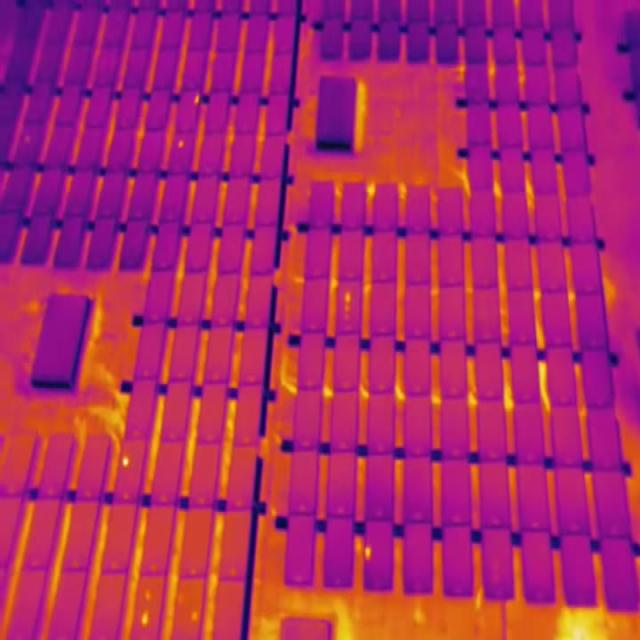Orange-Spots: (344, 292, 351, 319), (141, 610, 149, 626), (364, 546, 372, 559), (123, 456, 130, 468), (144, 590, 151, 600), (191, 612, 198, 621), (194, 95, 200, 104), (178, 141, 184, 148)
